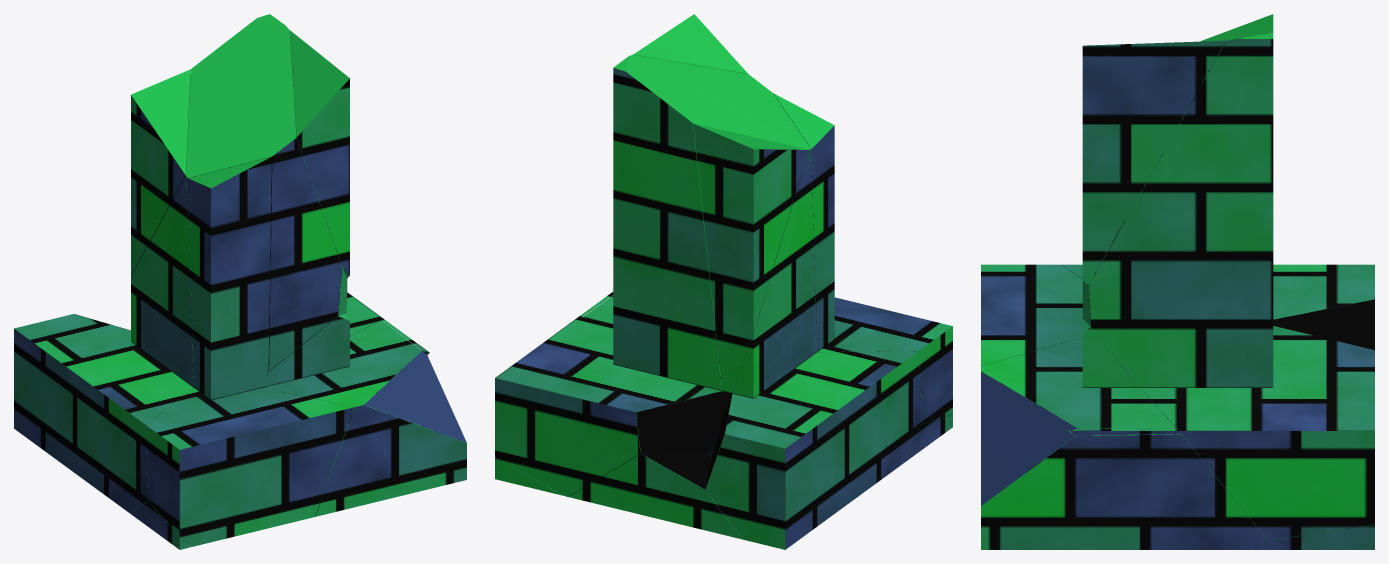
The model's file is poisoned room pillar broken.fbx.
3 renders of one model, left to right at view 1: azimuth 30°, elevation 25°; view 2: azimuth 150°, elevation 25°; view 3: azimuth 270°, elevation 25°, orthographic. The views are drawn at different scales.
Parts seen in each view (by area): view 1: themed pillar broken- poison stone; view 2: themed pillar broken- poison stone; view 3: themed pillar broken- poison stone.
Boxes of the visible parts, bbox=[...] form: themed pillar broken- poison stone: bbox=[14, 14, 466, 549]; themed pillar broken- poison stone: bbox=[495, 14, 952, 549]; themed pillar broken- poison stone: bbox=[981, 14, 1374, 549].
Bounding box in the file's own units: 200 × 262 × 200.
